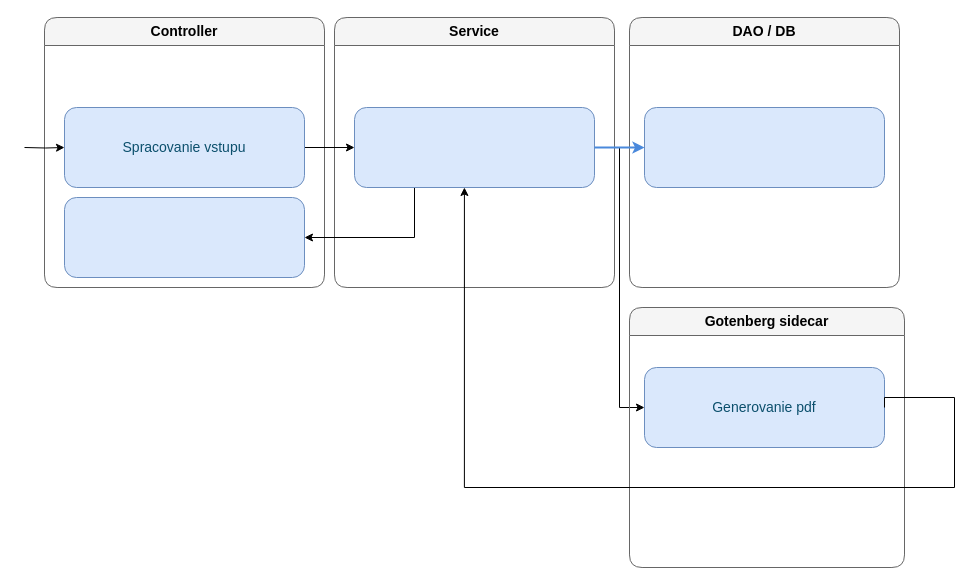
Some shapes in this 980 by 585 pixel diagram are drawn without their labels. The centre of each missing label's shape, as x and y in pixels:
Odpoveď JSON (status, body): point (184, 237)
Spracovanie logiky: point (474, 147)
Volanie DB: point (764, 147)
